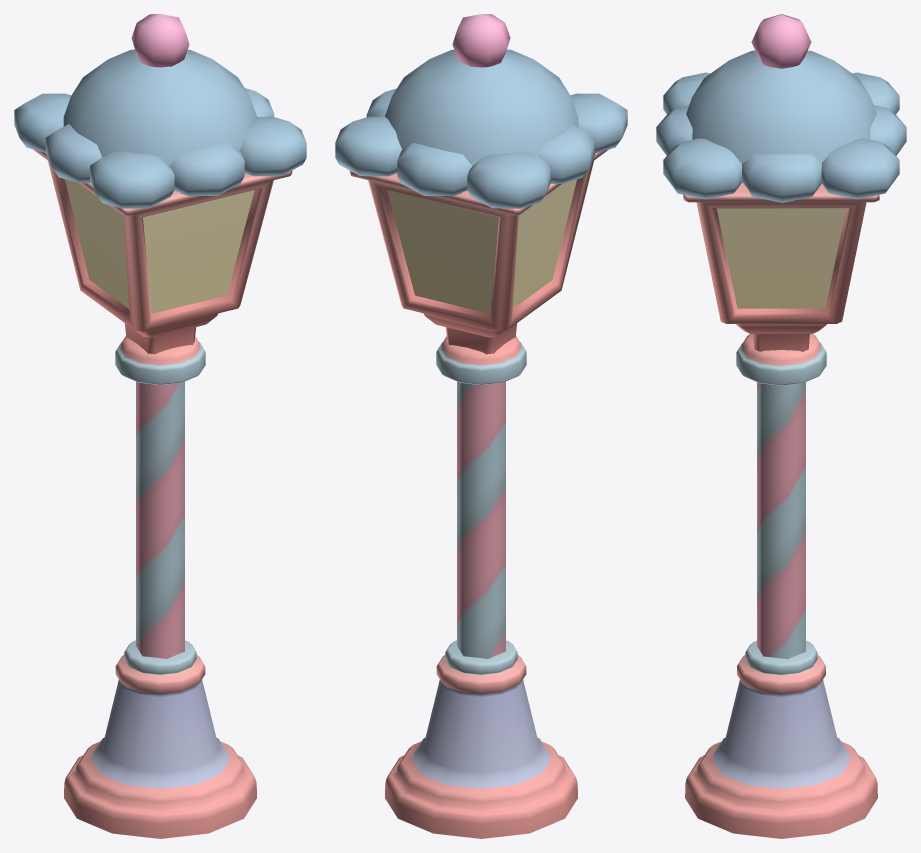
File: Homestead_mkl_8.fbx
3 renders of one model, left to right at view 1: azimuth 30°, elevation 25°; view 2: azimuth 150°, elevation 25°; view 3: azimuth 270°, elevation 25°, orthographic.
Parts seen in each view (by area): view 1: Homestead_mkl_8; view 2: Homestead_mkl_8; view 3: Homestead_mkl_8.
Boxes of the visible parts, x1=… form: Homestead_mkl_8: x1=14, y1=14, x2=306, y2=838; Homestead_mkl_8: x1=335, y1=14, x2=627, y2=838; Homestead_mkl_8: x1=656, y1=14, x2=906, y2=838.
Bounding box in the file's own units: 125 × 430 × 125.
